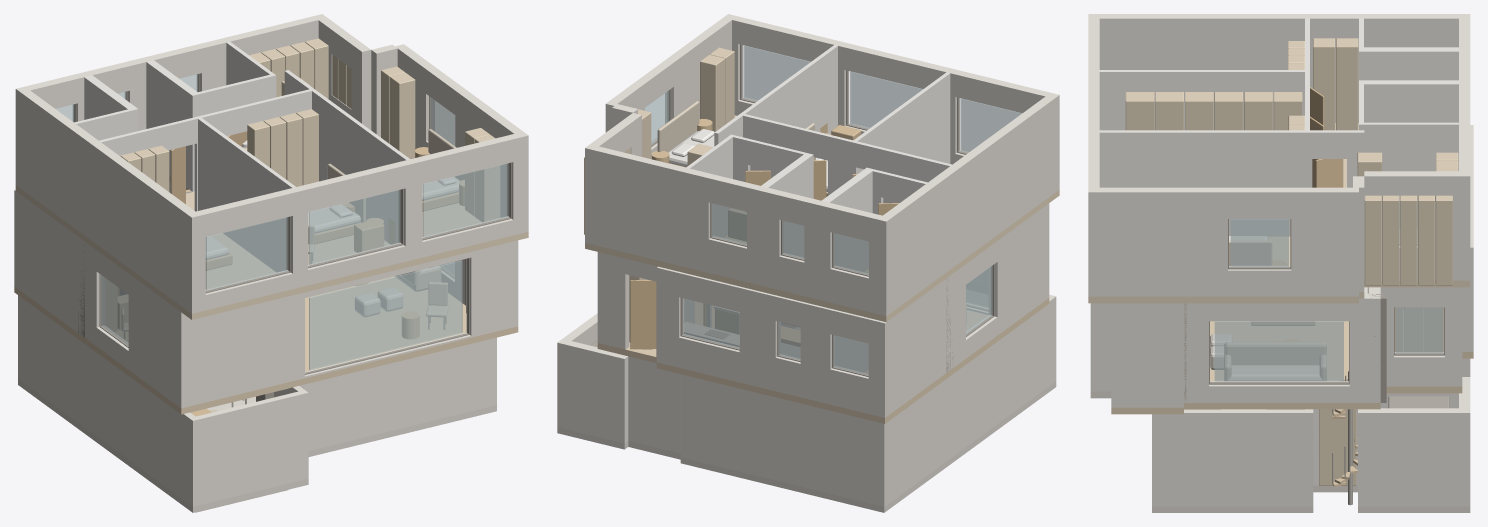
File: whole-house-wood.glb
The picture shows the model from 3 angles, left to right: view 1: azimuth 30°, elevation 25°; view 2: azimuth 150°, elevation 25°; view 3: azimuth 270°, elevation 25°; orthographic projection. The views are drawn at different scales.
Visible parts, largest first — view 1: F2_ExtWall_07_P00, B1_ExtWall_13_P00, B1_ExtWall_02_P00, F1_Slab, F1_ExtWall_00_sliding_01_Glass, F1_ExtWall_00_P00, B1_ExtWall_00_P00, F1_ExtWall_09_P00, F2_Slab, F2_Bed2_Guest_P00, F1_ExtWall_09_P01, F2_Guest_Master_P00 (+59 smaller); view 2: F2_ExtWall_07_P00, B1_ExtWall_12_P00, B1_ExtWall_13_P00, F2_ExtWall_06_P00, F1_ExtWall_09_P00, B1_ExtWall_08_P00, F2_Bed2_Guest_P00, F1_ExtWall_09_P01, F2_Guest_Master_P00, B1_ExtWall_10_P00, F1_ExtWall_08_P01, F1_Slab (+71 smaller); view 3: F2_ExtWall_07_P00, F2_ExtWall_01_P00, B1_ExtWall_03_P00, F2_Guest_Master_P00, B1_ExtWall_07_P00, F1_ExtWall_03_window_01_Glass, F2_ExtWall_01_P01, F1_Slab, F2_Bed2_Guest_P00, F1_ExtWall_01_P00, F2_Stair_GuestBath_P00, F2_GuestBath_Closet_P00 (+66 smaller).
Boxes of the visible parts, bbox=[...] form: F2_ExtWall_07_P00: bbox=[16, 87, 200, 313]; B1_ExtWall_13_P00: bbox=[18, 295, 199, 506]; B1_ExtWall_02_P00: bbox=[299, 337, 496, 450]; F1_Slab: bbox=[14, 276, 518, 414]; F1_ExtWall_00_sliding_01_Glass: bbox=[309, 260, 462, 370]; F1_ExtWall_00_P00: bbox=[176, 292, 304, 408]; B1_ExtWall_00_P00: bbox=[189, 390, 308, 506]; F1_ExtWall_09_P00: bbox=[14, 190, 105, 345]; F2_Slab: bbox=[15, 175, 528, 319]; F2_Bed2_Guest_P00: bbox=[196, 116, 295, 271]; F1_ExtWall_09_P01: bbox=[128, 274, 190, 407]; F2_Guest_Master_P00: bbox=[310, 89, 409, 244]; F2_ExtWall_07_P00: bbox=[877, 95, 1059, 315]; B1_ExtWall_12_P00: bbox=[687, 376, 887, 506]; B1_ExtWall_13_P00: bbox=[878, 295, 1056, 506]; F2_ExtWall_06_P00: bbox=[585, 145, 713, 272]; F1_ExtWall_09_P00: bbox=[876, 264, 965, 417]; B1_ExtWall_08_P00: bbox=[557, 340, 627, 442]; F2_Bed2_Guest_P00: bbox=[851, 72, 950, 178]; F1_ExtWall_09_P01: bbox=[989, 207, 1049, 334]; F2_Guest_Master_P00: bbox=[739, 45, 837, 133]; B1_ExtWall_10_P00: bbox=[628, 357, 679, 453]; F1_ExtWall_08_P01: bbox=[739, 287, 780, 391]; F1_Slab: bbox=[597, 298, 1049, 423]; F2_ExtWall_07_P00: bbox=[1088, 14, 1469, 122]; F2_ExtWall_01_P00: bbox=[1088, 187, 1227, 296]; B1_ExtWall_03_P00: bbox=[1154, 409, 1313, 506]; F2_Guest_Master_P00: bbox=[1099, 130, 1309, 236]; B1_ExtWall_07_P00: bbox=[1366, 409, 1470, 506]; F1_ExtWall_03_window_01_Glass: bbox=[1214, 321, 1343, 381]; F2_ExtWall_01_P01: bbox=[1291, 187, 1358, 296]; F1_Slab: bbox=[1111, 321, 1473, 414]; F2_Bed2_Guest_P00: bbox=[1099, 70, 1309, 130]; F1_ExtWall_01_P00: bbox=[1111, 303, 1181, 407]; F2_Stair_GuestBath_P00: bbox=[1359, 80, 1458, 122]; F2_GuestBath_Closet_P00: bbox=[1359, 122, 1458, 228].
Size of the model in its own units: 10.34 by 8.97 by 9.44.
